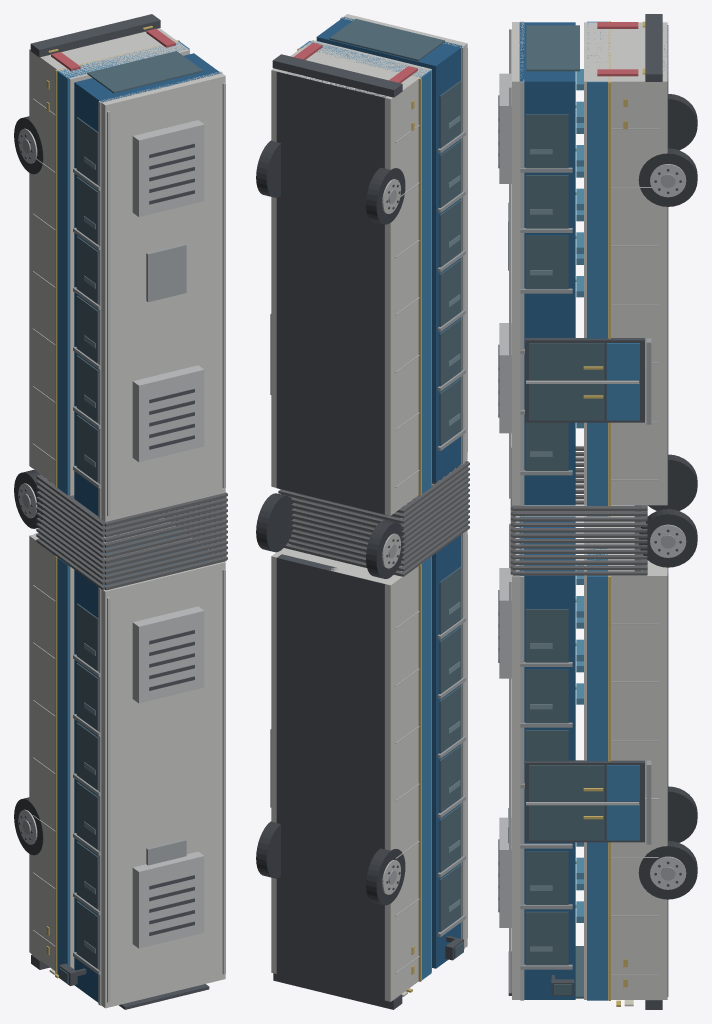
File: articulated_bus_v2.glb
The picture shows the model from 3 angles, left to right: view 1: azimuth 30°, elevation 25°; view 2: azimuth 150°, elevation 25°; view 3: azimuth 270°, elevation 25°; orthographic projection.
Visible parts, largest first — view 1: 0002_FRONT_roof, 0102_REAR_roof, 0100_REAR_lower_body, 0000_FRONT_lower_body, 0104_REAR_low_belt, 0094_FRONT_HVAC, 0186_REAR_HVAC, 0192_REAR_HVAC, 0088_FRONT_HVAC, 0004_FRONT_low_belt, 0101_REAR_upper_frame, 0001_FRONT_upper_frame (+41 smaller); view 2: 0006_FRONT_underchassis, 0106_REAR_underchassis, 0100_REAR_lower_body, 0000_FRONT_lower_body, 0101_REAR_upper_frame, 0104_REAR_low_belt, 0001_FRONT_upper_frame, 0004_FRONT_low_belt, 0309_REAR_rear_window, 0102_REAR_roof, 0308_REAR_bumper, 0002_FRONT_roof (+25 smaller); view 3: 0100_REAR_lower_body, 0000_FRONT_lower_body, 0101_REAR_upper_frame, 0004_FRONT_low_belt, 0001_FRONT_upper_frame, 0104_REAR_low_belt, 0102_REAR_roof, 0002_FRONT_roof, 0265_ACCESSIBLE_DOOR_glazing, 0262_ACCESSIBLE_DOOR_glazing, 0256_ACCESSIBLE_DOOR_glazing, 0253_ACCESSIBLE_DOOR_glazing (+54 smaller).
Part boxes in pixels (left/top/right/bottom): 0002_FRONT_roof: left=101, top=561, right=225, bottom=1008; 0102_REAR_roof: left=99, top=71, right=225, bottom=521; 0100_REAR_lower_body: left=29, top=28, right=189, bottom=495; 0000_FRONT_lower_body: left=29, top=518, right=189, bottom=970; 0104_REAR_low_belt: left=57, top=41, right=189, bottom=495; 0094_FRONT_HVAC: left=132, top=606, right=204, bottom=703; 0186_REAR_HVAC: left=132, top=365, right=204, bottom=462; 0192_REAR_HVAC: left=132, top=120, right=204, bottom=216; 0088_FRONT_HVAC: left=132, top=851, right=204, bottom=948; 0004_FRONT_low_belt: left=57, top=530, right=186, bottom=974; 0101_REAR_upper_frame: left=74, top=53, right=220, bottom=515; 0001_FRONT_upper_frame: left=74, top=542, right=218, bottom=1002; 0006_FRONT_underchassis: left=276, top=554, right=384, bottom=1000; 0106_REAR_underchassis: left=276, top=71, right=386, bottom=514; 0100_REAR_lower_body: left=271, top=40, right=431, bottom=515; 0000_FRONT_lower_body: left=271, top=543, right=431, bottom=1001; 0101_REAR_upper_frame: left=316, top=17, right=462, bottom=482; 0104_REAR_low_belt: left=299, top=41, right=431, bottom=493; 0001_FRONT_upper_frame: left=401, top=523, right=461, bottom=968; 0004_FRONT_low_belt: left=421, top=556, right=431, bottom=979; 0309_REAR_rear_window: left=329, top=19, right=444, bottom=61; 0102_REAR_roof: left=341, top=14, right=467, bottom=464; 0308_REAR_bumper: left=272, top=54, right=402, bottom=97; 0002_FRONT_roof: left=461, top=530, right=467, bottom=947; 0100_REAR_lower_body: left=584, top=22, right=667, bottom=505; 0000_FRONT_lower_body: left=584, top=516, right=667, bottom=999; 0101_REAR_upper_frame: left=519, top=22, right=575, bottom=505; 0004_FRONT_low_belt: left=587, top=516, right=607, bottom=1000; 0001_FRONT_upper_frame: left=519, top=516, right=575, bottom=999; 0104_REAR_low_belt: left=587, top=21, right=607, bottom=505; 0102_REAR_roof: left=512, top=22, right=524, bottom=505; 0002_FRONT_roof: left=512, top=516, right=524, bottom=999; 0265_ACCESSIBLE_DOOR_glazing: left=529, top=343, right=604, bottom=380; 0262_ACCESSIBLE_DOOR_glazing: left=529, top=384, right=604, bottom=420; 0256_ACCESSIBLE_DOOR_glazing: left=529, top=765, right=604, bottom=801; 0253_ACCESSIBLE_DOOR_glazing: left=529, top=805, right=604, bottom=840.
Bounding box in the file's own units: 3.2 × 18.26 × 3.52.
